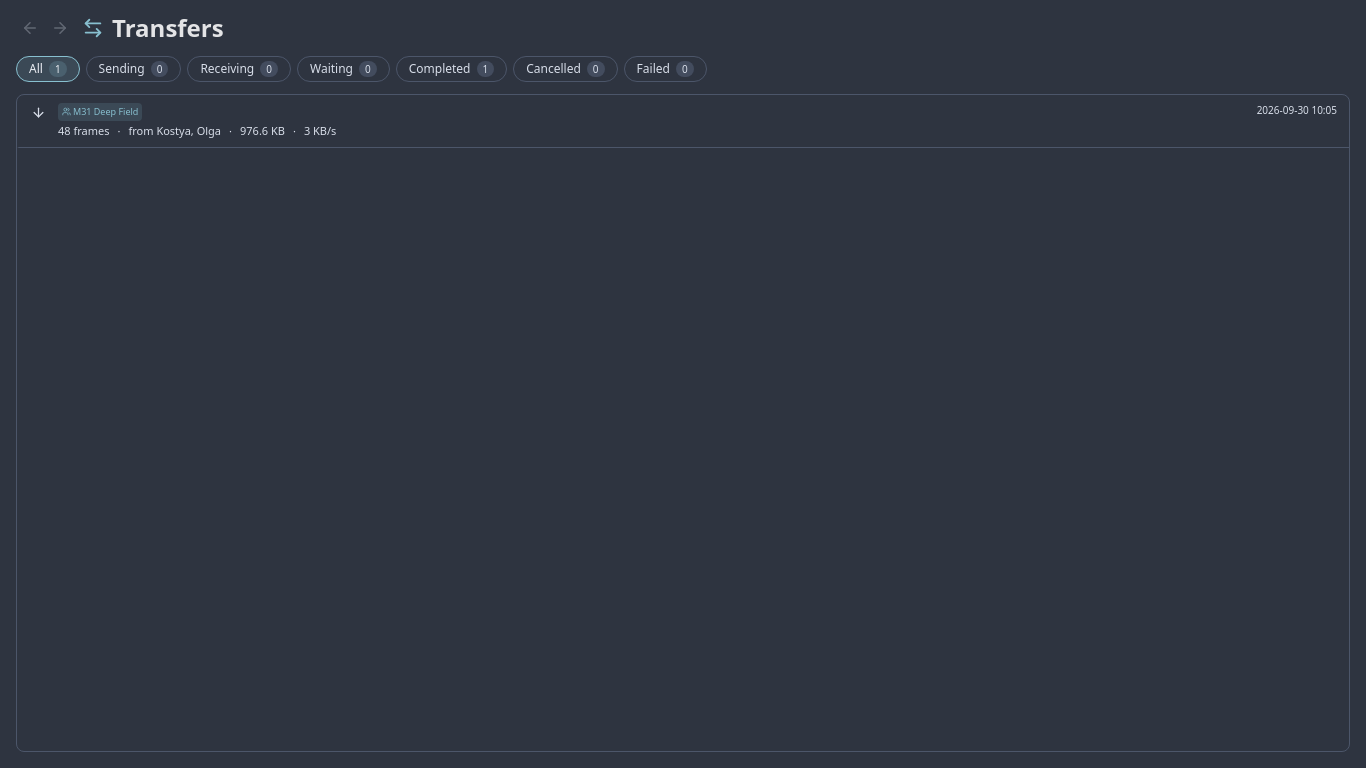
Test: Transfers page — collab receive sessions › a session with no failures does not appear under the Failed filter
Expected: the text "M31 Deep Field" is shown, top-left (73, 105), bottom-right (138, 118)
Click the button "Failed 0" at (665, 69), box top-left (624, 56), bottom-right (707, 82)
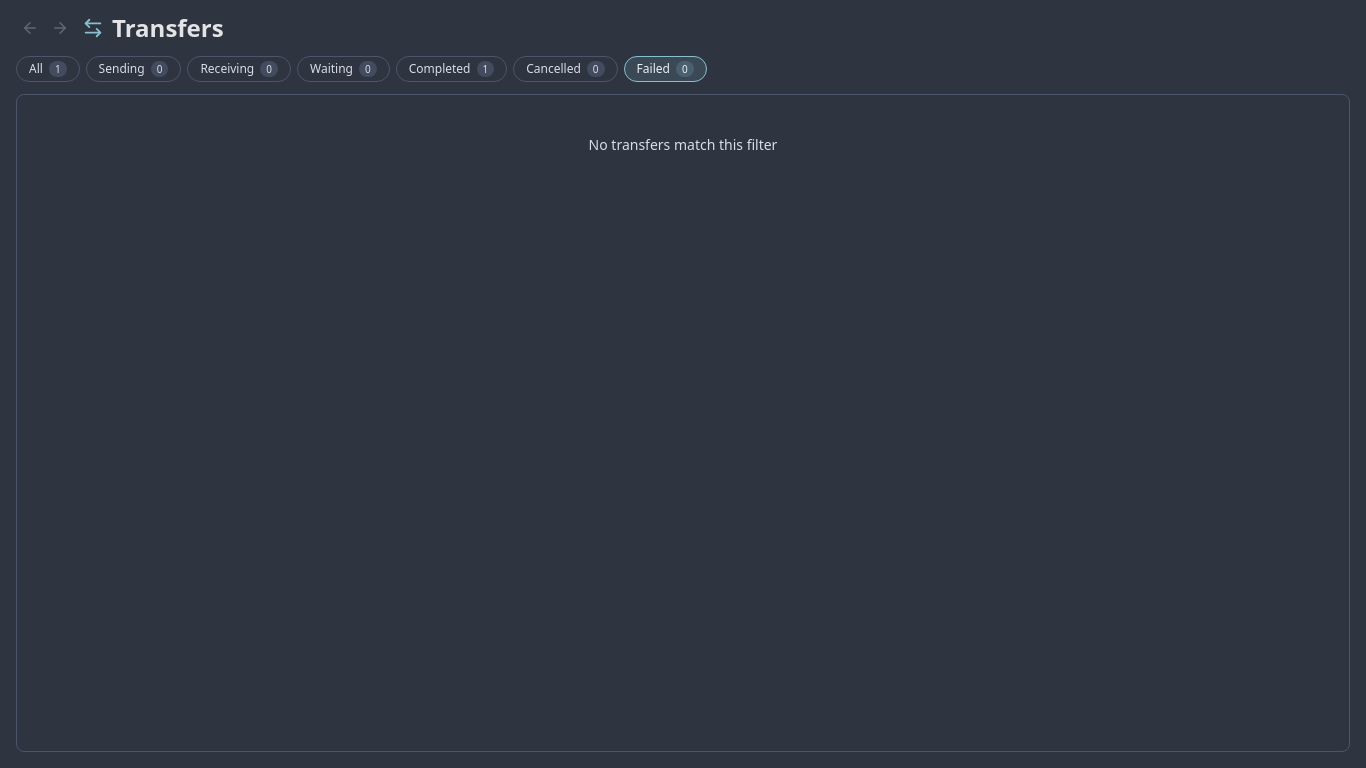
Expected: the button "M31 Deep Field" is gone
